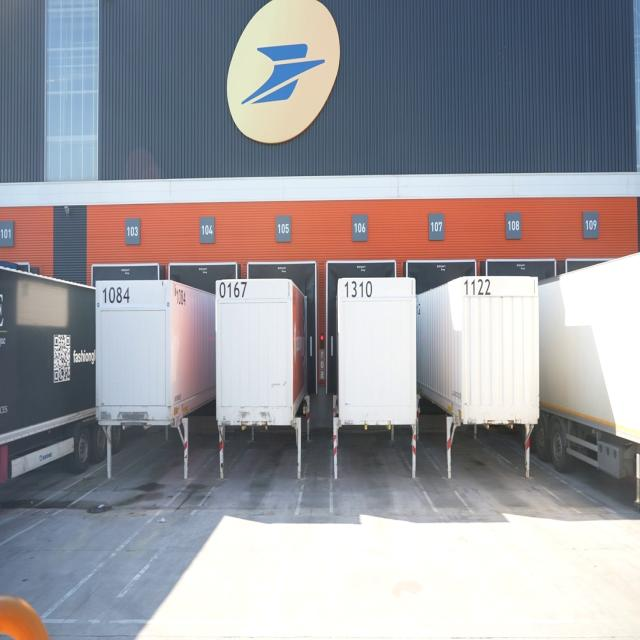Code: (100, 283, 134, 309), (216, 279, 249, 305), (342, 276, 374, 302), (462, 275, 494, 300)
